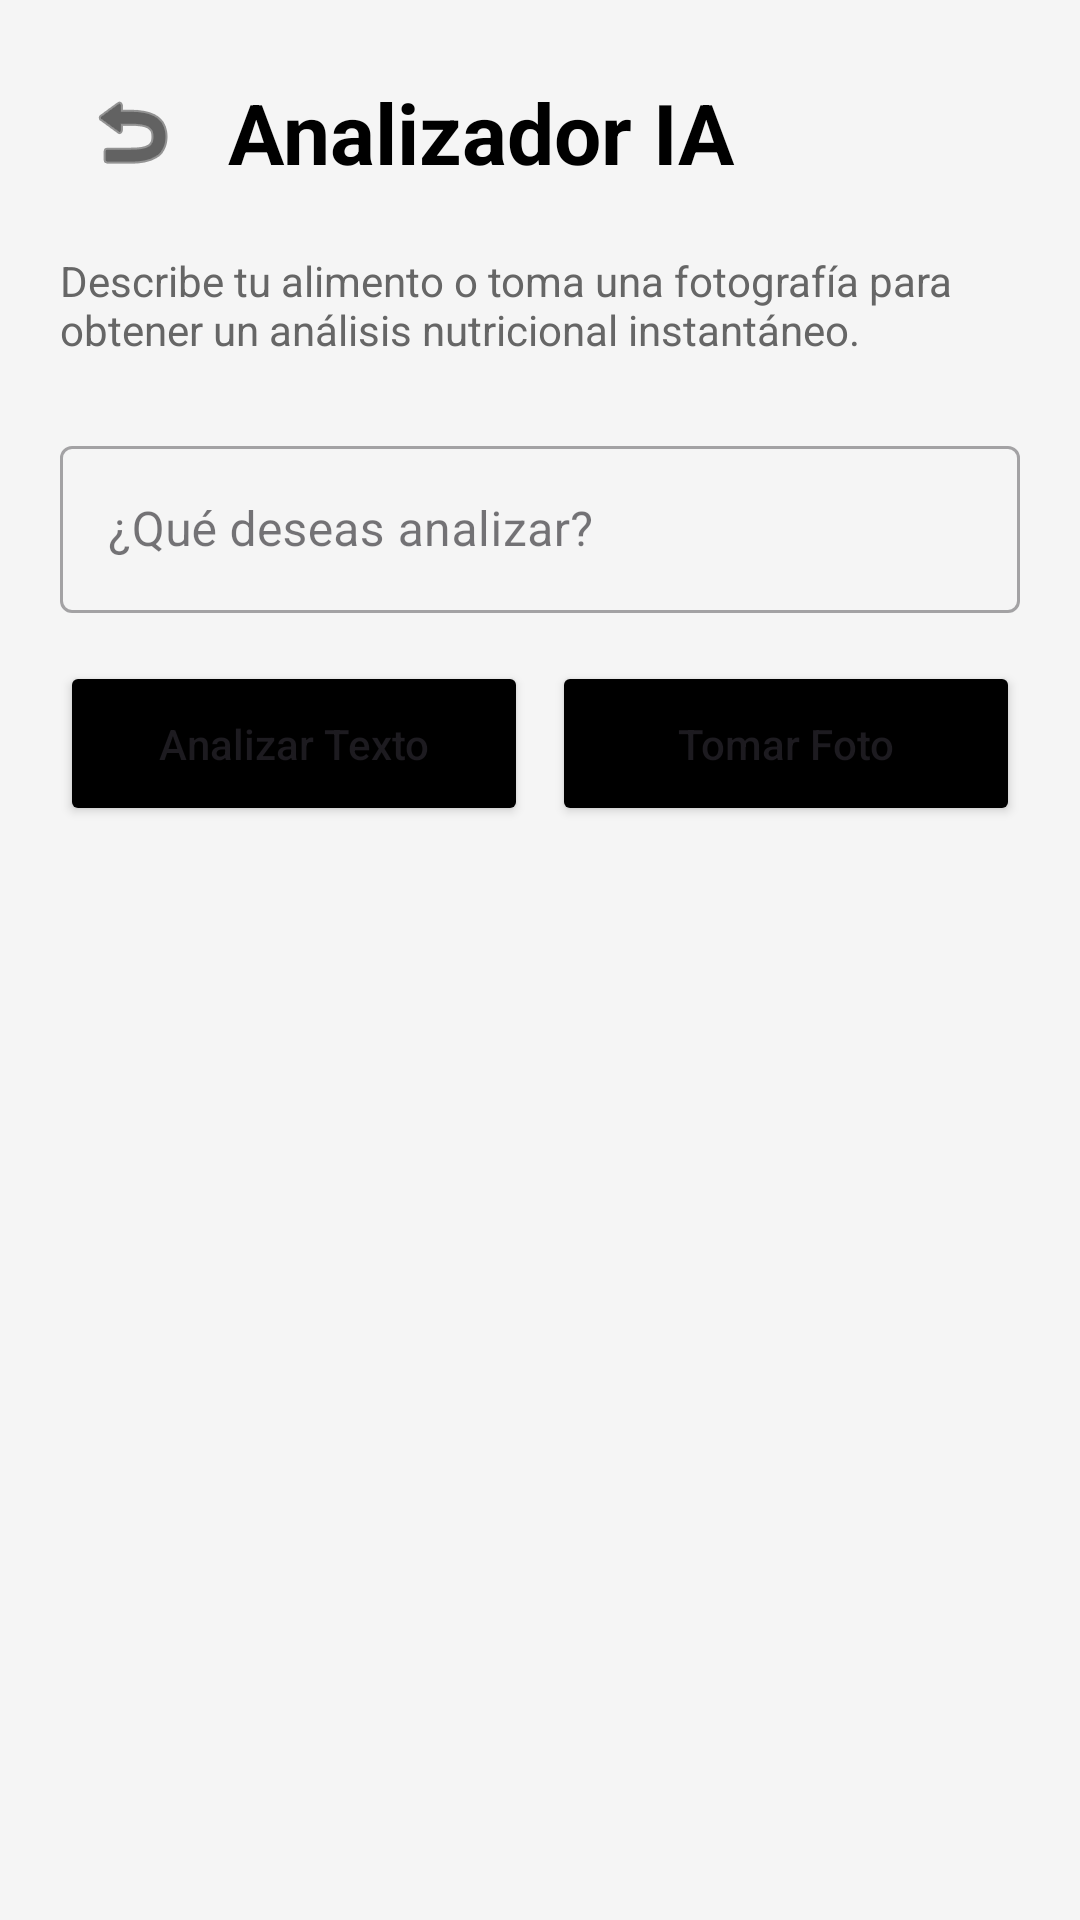

Icon click points for this 1080w x 1920h phone screenshot, format (x,y):
Volver al Inicio: (133,132)
